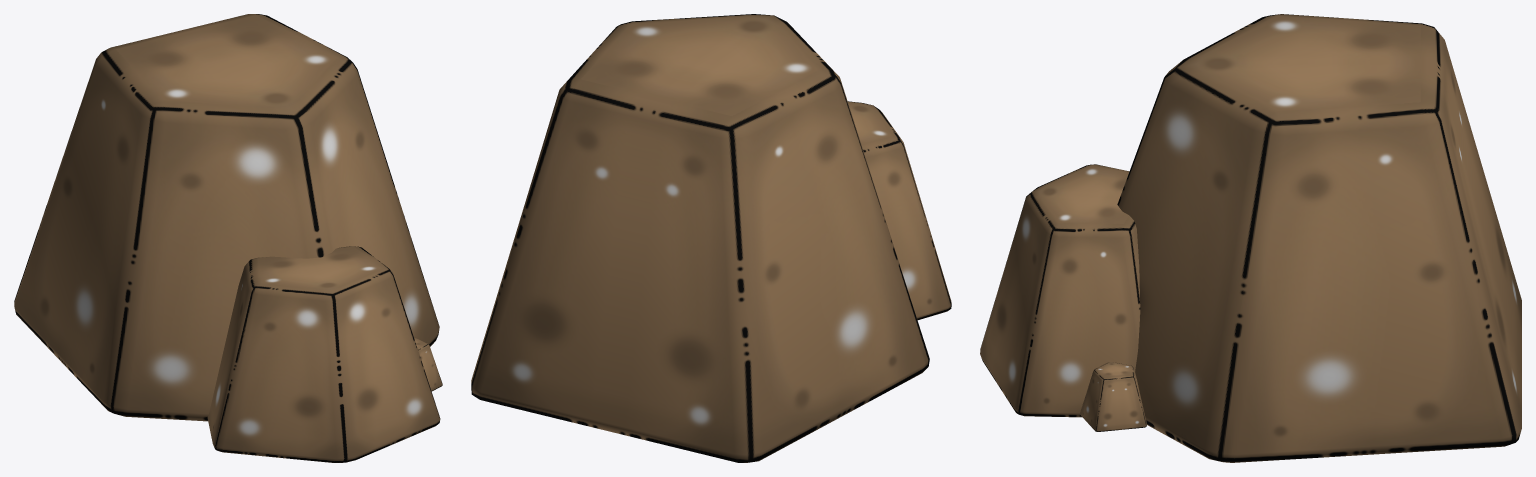
The model's file is Rock2.glb.
3 renders of one model, left to right at view 1: azimuth 30°, elevation 25°; view 2: azimuth 150°, elevation 25°; view 3: azimuth 270°, elevation 25°, orthographic. The views are drawn at different scales.
Parts seen in each view (by area): view 1: Cube, Cube.004, Cube.007; view 2: Cube, Cube.004; view 3: Cube, Cube.004, Cube.007.
Boxes of the visible parts, left/top/right/bottom form: Cube: left=14, top=14, right=439, bottom=421; Cube.004: left=207, top=246, right=440, bottom=462; Cube.007: left=414, top=337, right=442, bottom=391; Cube: left=471, top=14, right=929, bottom=462; Cube.004: left=847, top=101, right=951, bottom=319; Cube: left=1117, top=14, right=1521, bottom=462; Cube.004: left=980, top=164, right=1140, bottom=417; Cube.007: left=1080, top=362, right=1146, bottom=431.
Bounding box in the file's own units: 1.94 × 1.58 × 2.47.
1 material, 1 textured.
